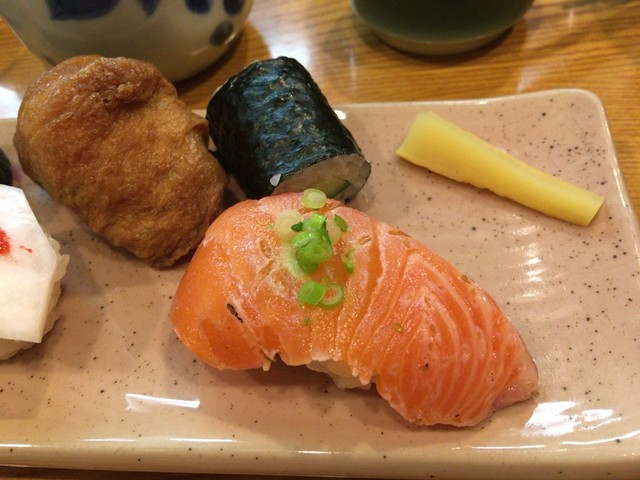salmon: (165, 180, 551, 440)
